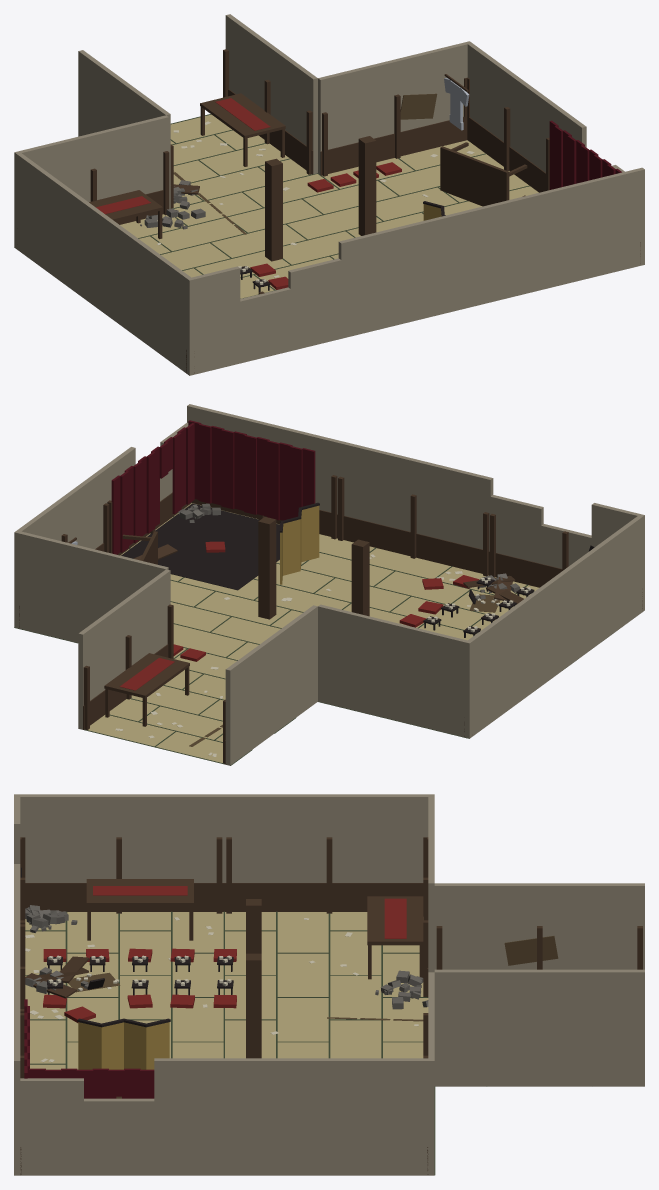
Rendered from BanquetHall_-O.fbx.
3 views of the same model, one above another, from view 1: azimuth 30°, elevation 25°; view 2: azimuth 150°, elevation 25°; view 3: azimuth 270°, elevation 25° (orthographic). The views are drawn at different scales.
Parts seen in each view (by area): view 1: BanquetHall, BanquetHall_Deco; view 2: BanquetHall, BanquetHall_Deco; view 3: BanquetHall, BanquetHall_Deco.
Boxes of the visible parts, bbox=[...] form: BanquetHall: bbox=[14, 14, 644, 375]; BanquetHall_Deco: bbox=[14, 49, 640, 373]; BanquetHall: bbox=[14, 404, 644, 765]; BanquetHall_Deco: bbox=[14, 420, 642, 765]; BanquetHall: bbox=[14, 794, 644, 1175]; BanquetHall_Deco: bbox=[20, 837, 642, 1174].
Bounding box in the file's own units: 2 × 2 × 0.4075.
